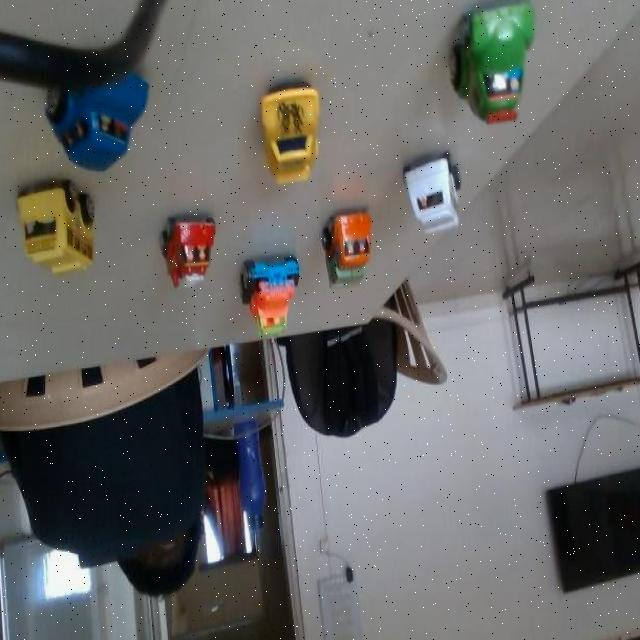car: (410, 0, 602, 165), (218, 50, 379, 196), (387, 126, 494, 258), (68, 56, 153, 166), (318, 190, 385, 308), (227, 251, 305, 350), (163, 202, 226, 290), (39, 185, 108, 263)
